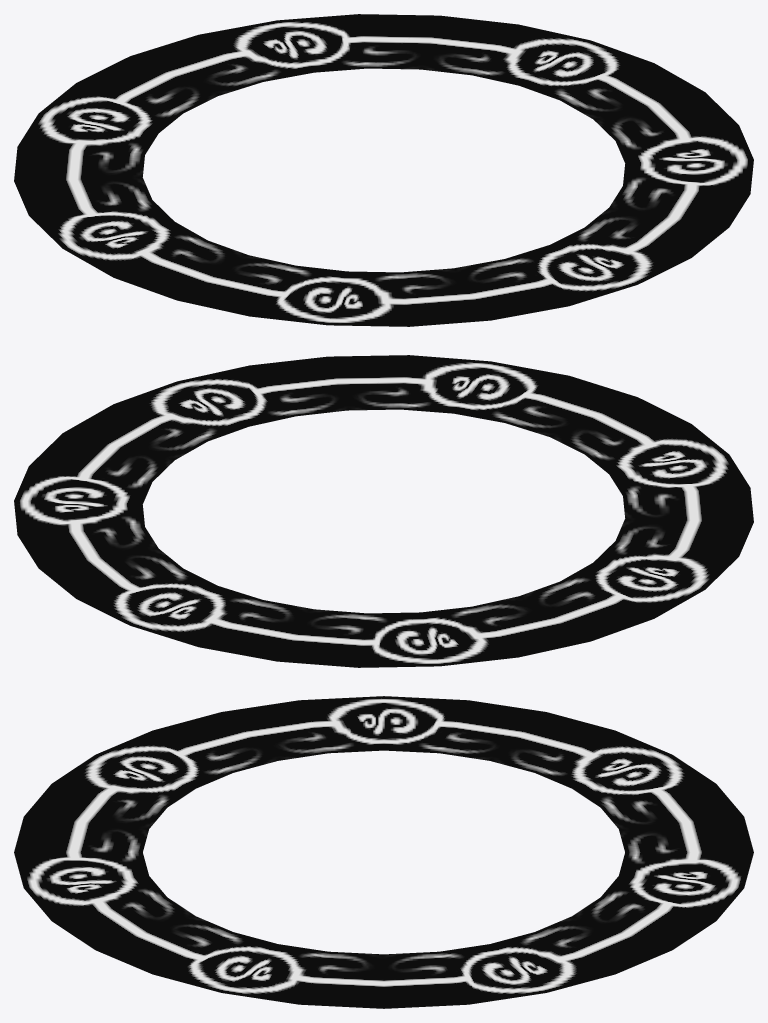
File: SM_Dadizhiwo01.FBX
3 views of the same model, one above another, from view 1: azimuth 30°, elevation 25°; view 2: azimuth 150°, elevation 25°; view 3: azimuth 270°, elevation 25° (orthographic).
Visible parts, largest first — view 1: SM_Dadizhiwo01; view 2: SM_Dadizhiwo01; view 3: SM_Dadizhiwo01.
Boxes of the visible parts, <box> form: SM_Dadizhiwo01: <box>14,14,753,326</box>; SM_Dadizhiwo01: <box>14,355,753,667</box>; SM_Dadizhiwo01: <box>14,696,753,1008</box>.
Bounding box in the file's own units: 163 × 163 × 9.54e-07.
Materials: 1 (1 with a texture image).
